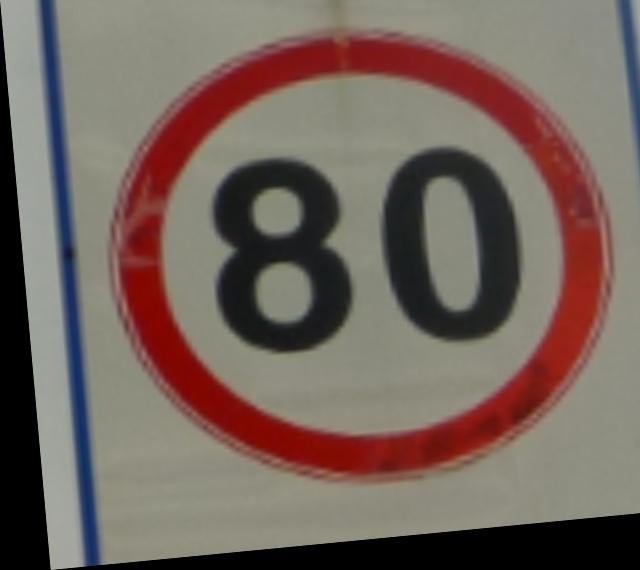limit80: (82, 6, 627, 523)
